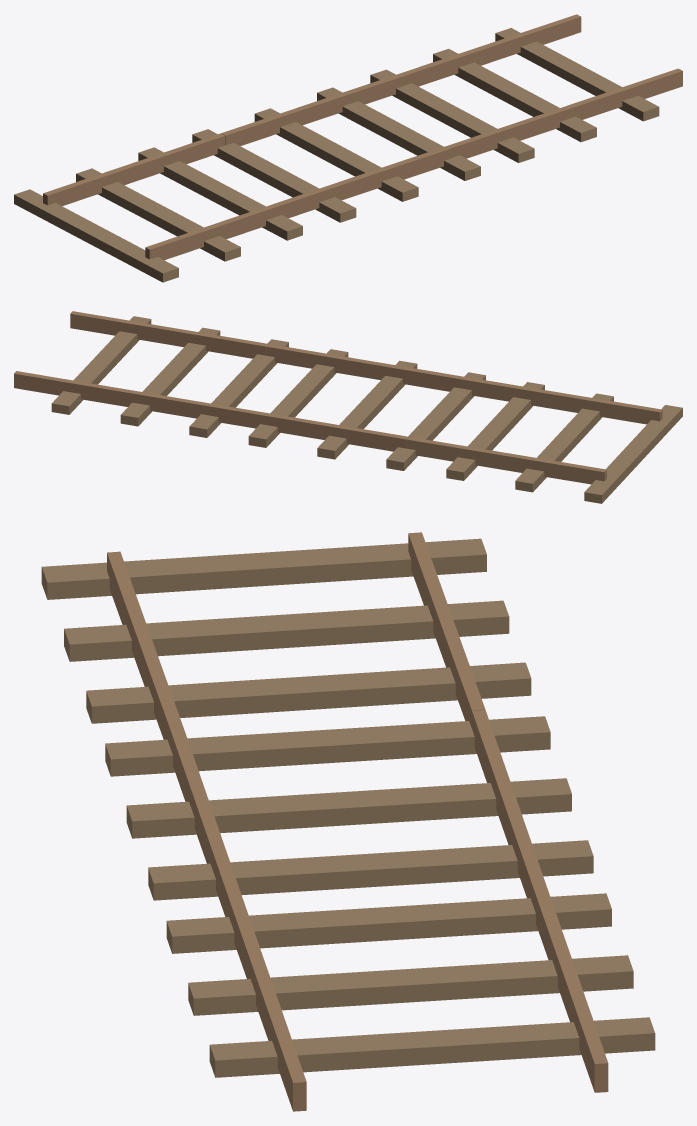
File: street_-1_1.glb
3 views of the same model, one above another, from view 1: azimuth 30°, elevation 25°; view 2: azimuth 150°, elevation 25°; view 3: azimuth 270°, elevation 25° (orthographic). The views are drawn at different scales.
Visible parts, largest first — view 1: wood.066, rust.066; view 2: rust.066, wood.066; view 3: wood.066, rust.066.
Boxes of the visible parts, left/top/right/bottom form: wood.066: left=14, top=28, right=659, bottom=282; rust.066: left=43, top=14, right=682, bottom=260; rust.066: left=14, top=311, right=662, bottom=484; wood.066: left=51, top=316, right=682, bottom=503; wood.066: left=41, top=538, right=655, bottom=1077; rust.066: left=107, top=532, right=608, bottom=1111.
Bounding box in the file's own units: 6.29 × 0.185 × 2.9.
